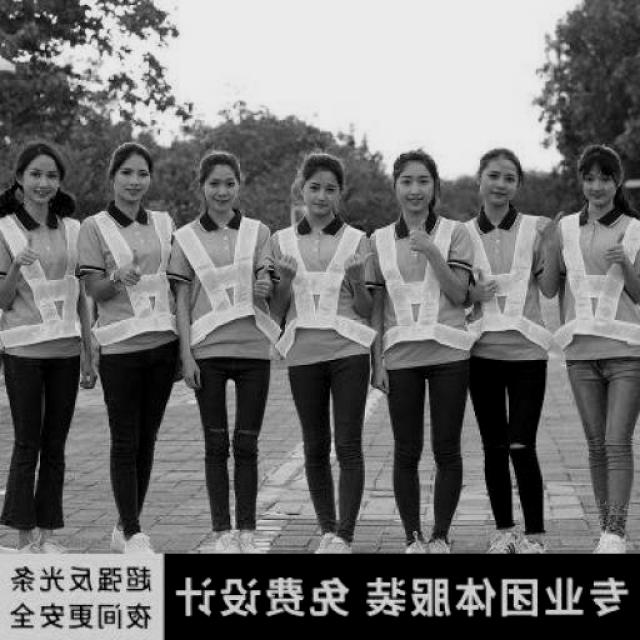face_nomask: (112, 163, 156, 205), (23, 162, 62, 202), (582, 167, 617, 206), (396, 172, 430, 210), (202, 174, 240, 208), (484, 167, 518, 202), (304, 180, 340, 212)
hand_noglove: (263, 250, 303, 286), (10, 232, 46, 272), (462, 270, 499, 308), (113, 250, 148, 290), (600, 227, 630, 269), (343, 248, 378, 282), (176, 356, 208, 393), (247, 266, 276, 302), (362, 366, 393, 398), (406, 216, 435, 250), (75, 363, 103, 392)
head_nohelmet: (12, 138, 69, 178), (296, 148, 349, 184), (576, 141, 628, 177), (472, 142, 528, 174), (392, 142, 443, 174), (108, 136, 157, 169), (198, 147, 241, 176)
person: (168, 137, 277, 558), (372, 130, 478, 556), (270, 142, 380, 552), (453, 138, 555, 552), (80, 136, 178, 552), (0, 133, 88, 555), (554, 146, 638, 564)
shoes: (482, 524, 526, 555), (590, 524, 630, 554), (216, 527, 260, 554), (318, 530, 356, 554), (124, 530, 156, 556)
vest: (264, 216, 378, 356), (76, 205, 176, 354), (376, 218, 479, 360), (548, 209, 640, 361), (174, 210, 266, 358), (2, 201, 82, 359), (461, 216, 547, 356)
